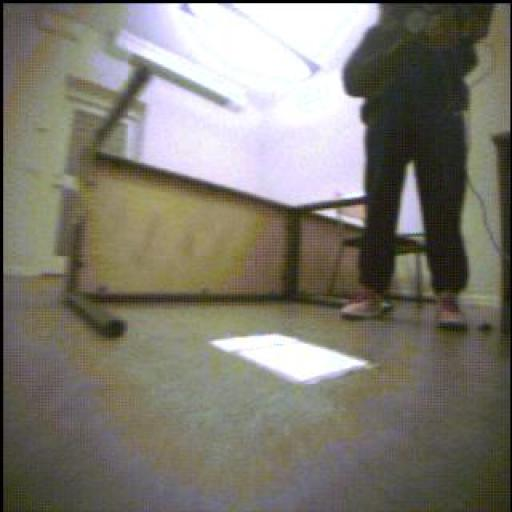Pad: (211, 335, 374, 385)
